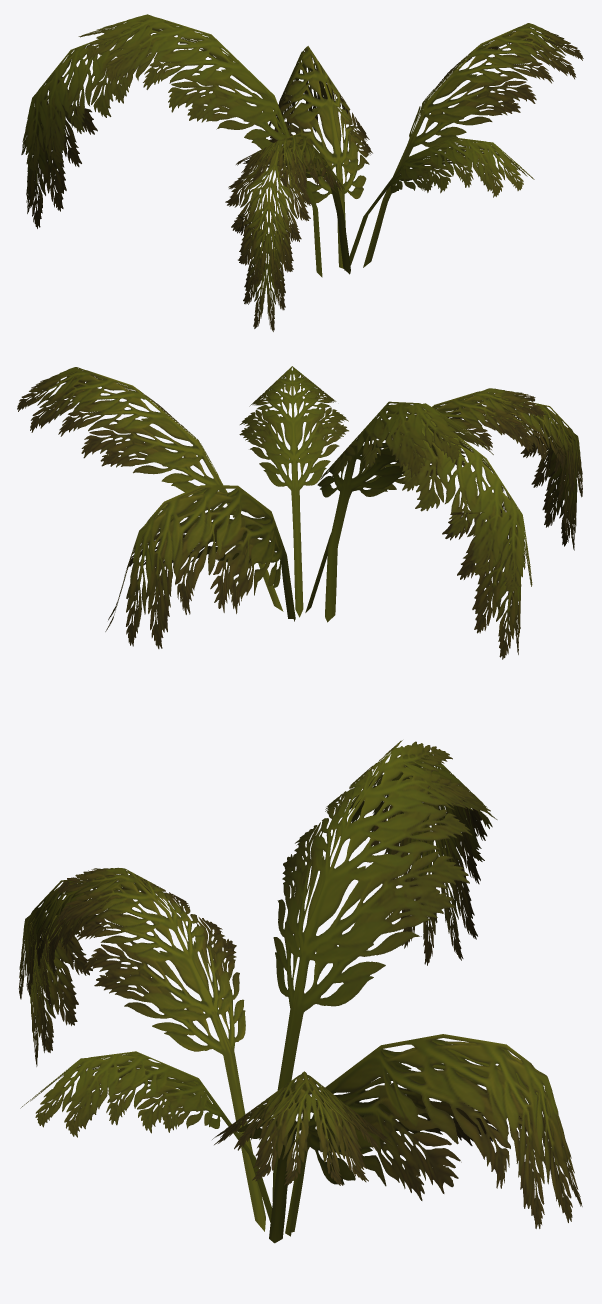
File: WetLands_Fern_01.fbx
3 views of the same model, one above another, from view 1: azimuth 30°, elevation 25°; view 2: azimuth 150°, elevation 25°; view 3: azimuth 270°, elevation 25° (orthographic). The views are drawn at different scales.
Parts seen in each view (by area): view 1: WetLands_Fern_01; view 2: WetLands_Fern_01; view 3: WetLands_Fern_01.
Boxes of the visible parts, left/top/right/bottom form: WetLands_Fern_01: left=21, top=14, right=583, bottom=331; WetLands_Fern_01: left=17, top=366, right=582, bottom=659; WetLands_Fern_01: left=18, top=740, right=582, bottom=1243.
Bounding box in the file's own units: 6.18 × 2.98 × 4.17.
1 material, 1 textured.
